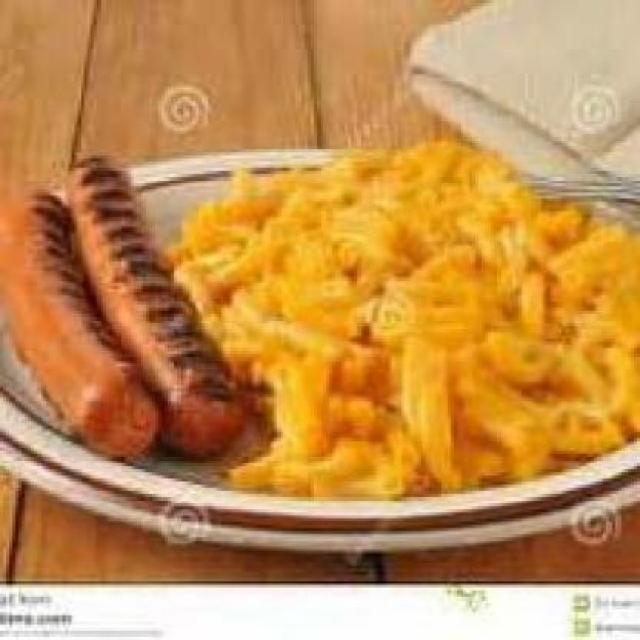macaroni and cheese: (220, 139, 637, 504)
